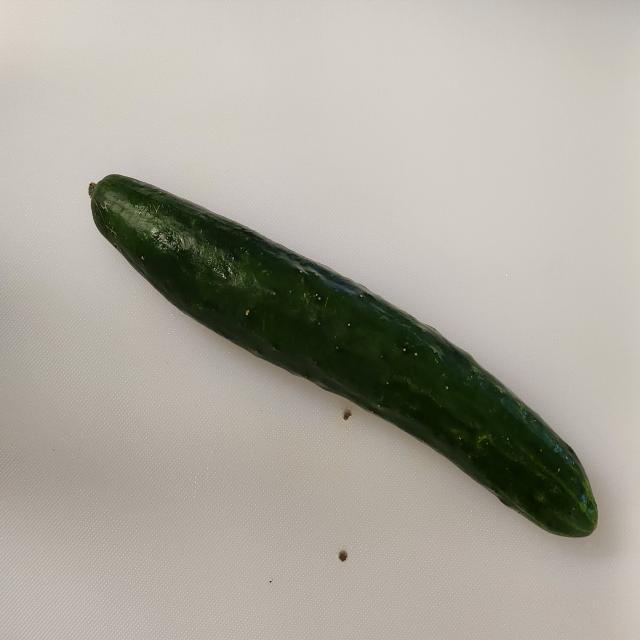cucumber: (87, 171, 599, 539)
